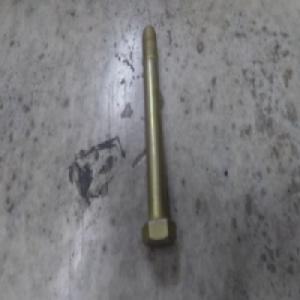Bolt: (142, 30, 179, 246)
